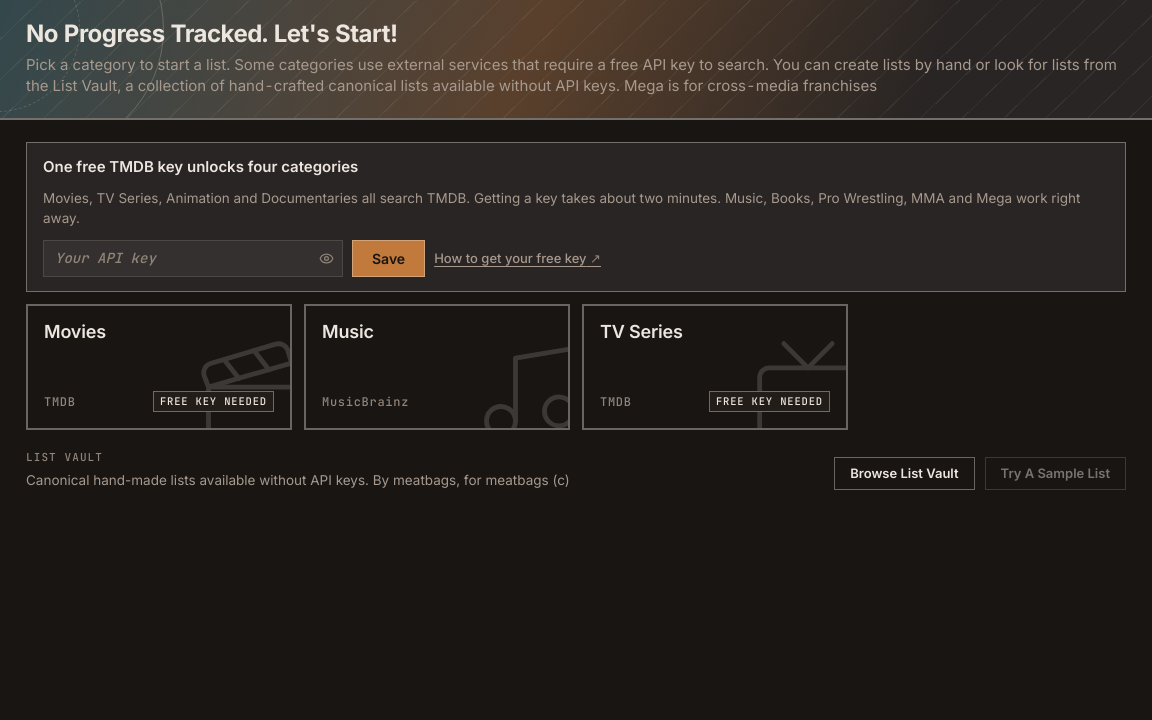
Test: the first-run subline and the TMDB callout (H-018, 33.3) › goes with the chips of the TMDB tiles, all at once, when the key is saved
The image size is (1152, 720).
Type "a-key" into the password field with placeholder "Your API key" at (193, 258), box [43,240,343,277]
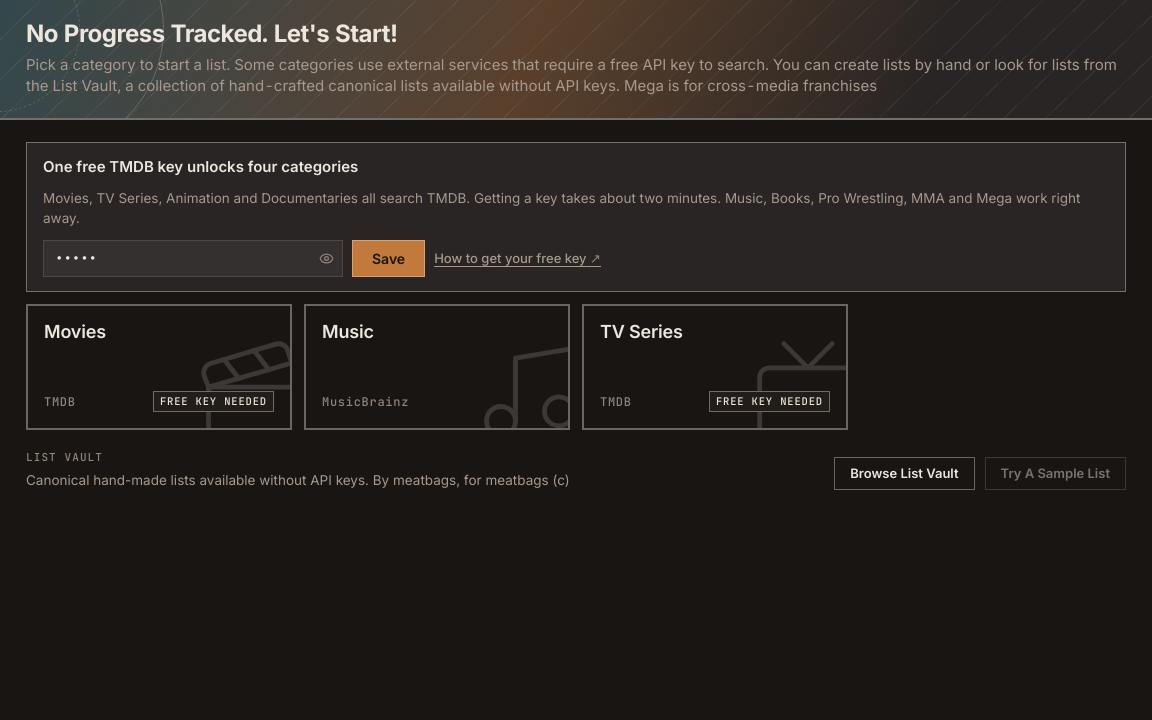
Submit the form, box [26,142,1126,292]
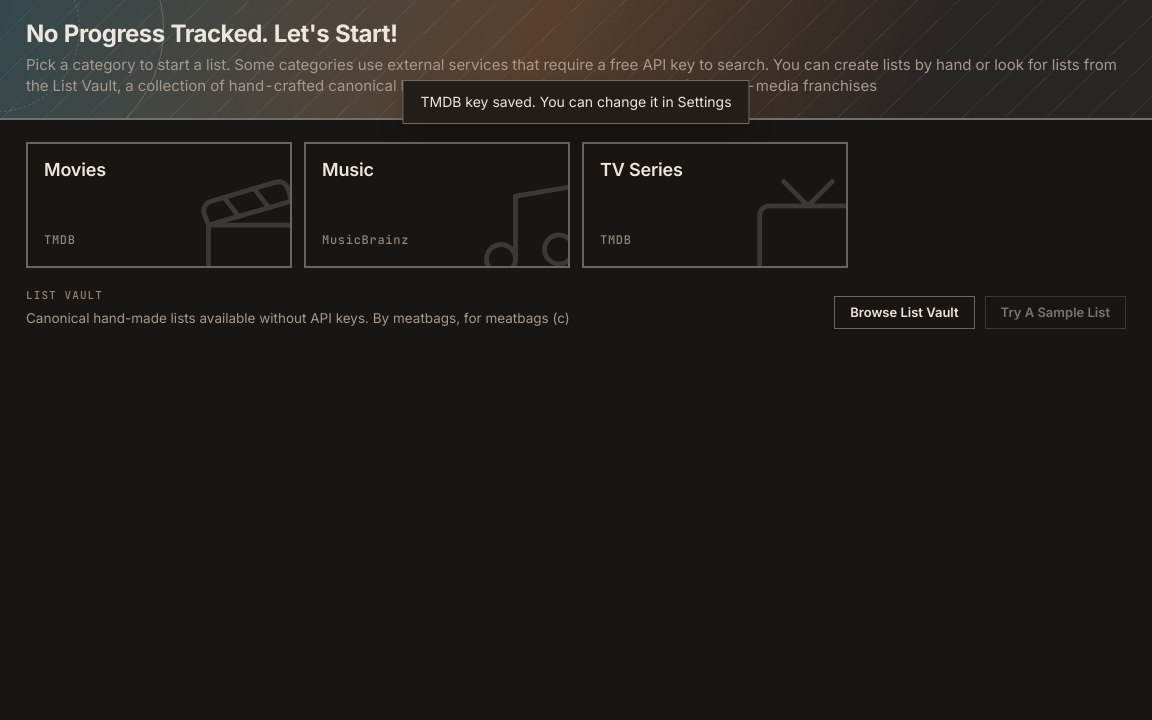
Check: the form is gone
Check: the text "TMDB key saved. You can change it in Settings" is shown, box [420,93,732,111]
